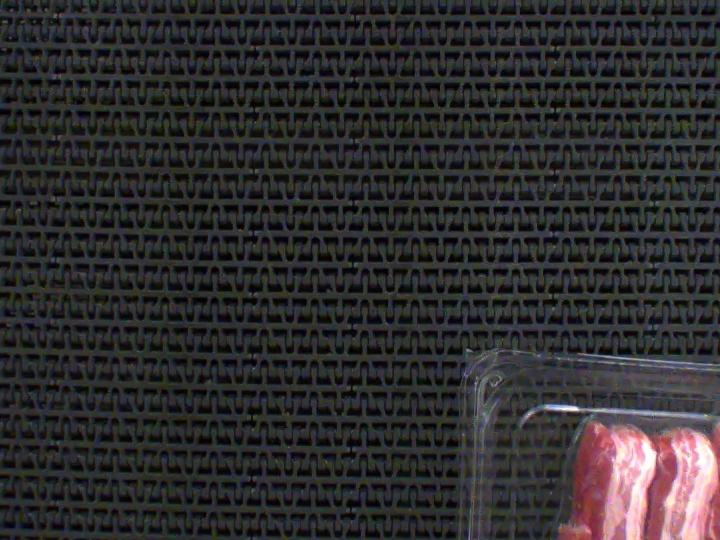unsealed: (558, 370, 720, 495)
